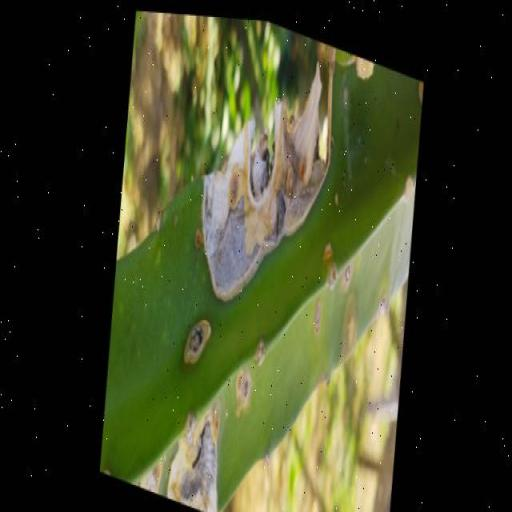stemcanker: (161, 352, 180, 390), (11, 174, 28, 205)
